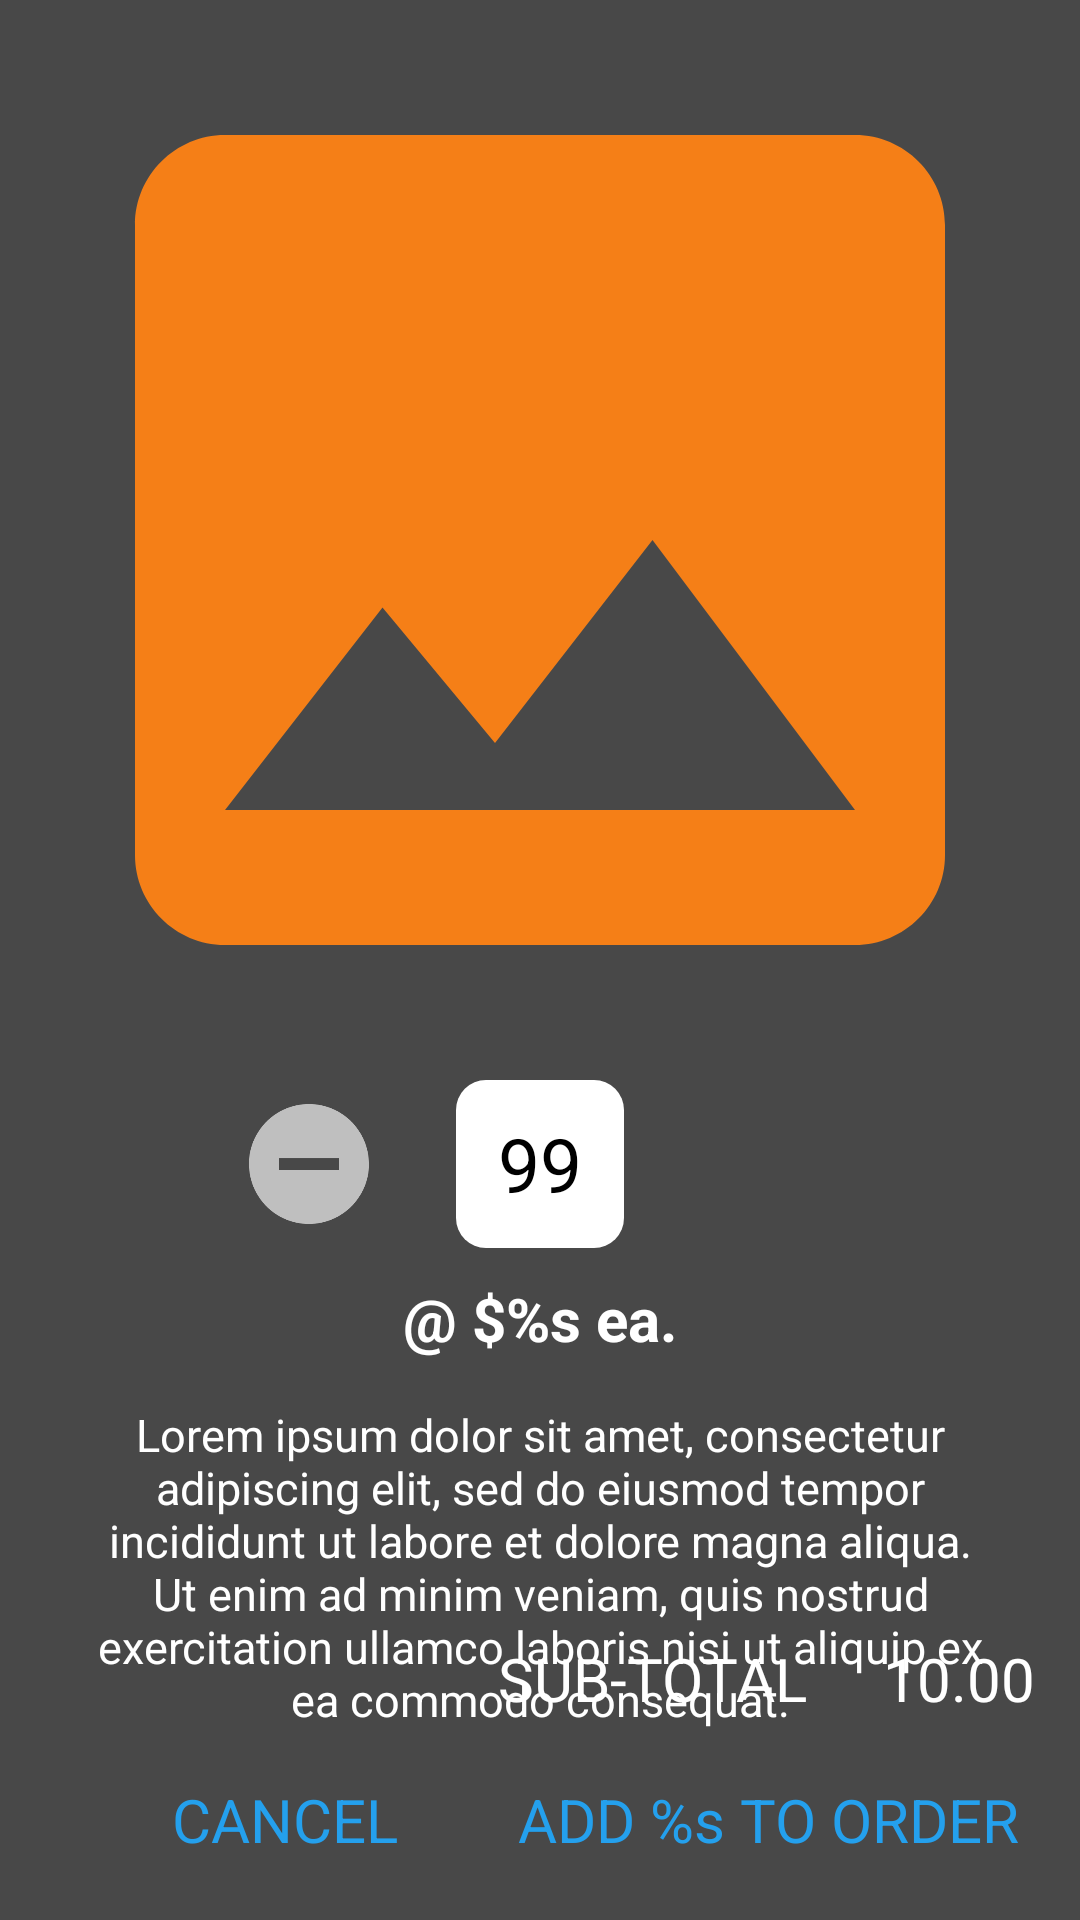

Screen size 1080 x 1920. Icon name, then its box in pixels as [left=x1, top=y1, right=x2, bottom=y2]:
remove circle: [left=249, top=1104, right=369, bottom=1224]
